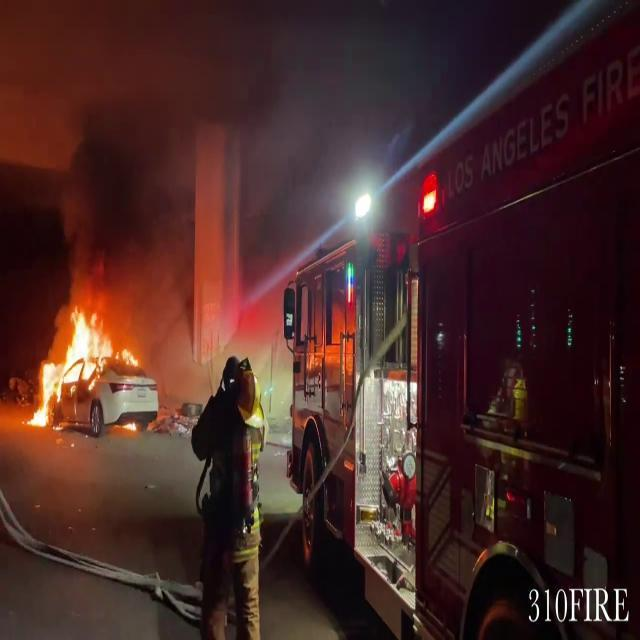Fire: (25, 298, 139, 428)
